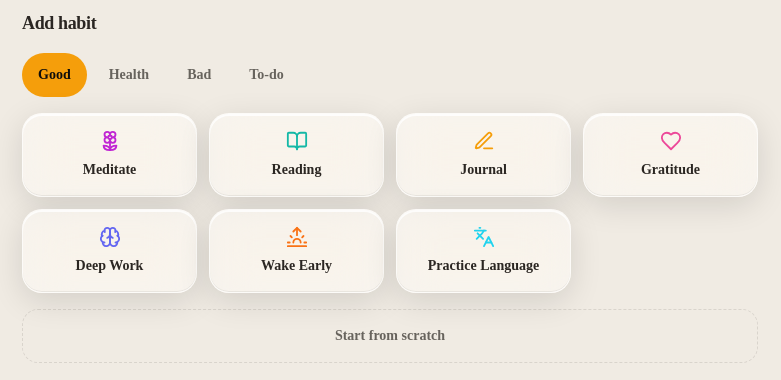
Test: AddHabitScreen (slice E R4) › switches segments to show the other group’s tiles
Click the button "Health" at (129, 75), box [93,53,165,97]
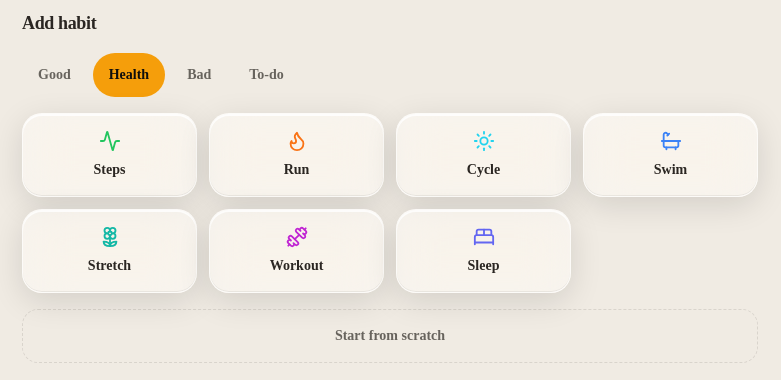
Now the button "Steps" is shown, box [22,113,197,197]
Now the button "Meditate" is gone
